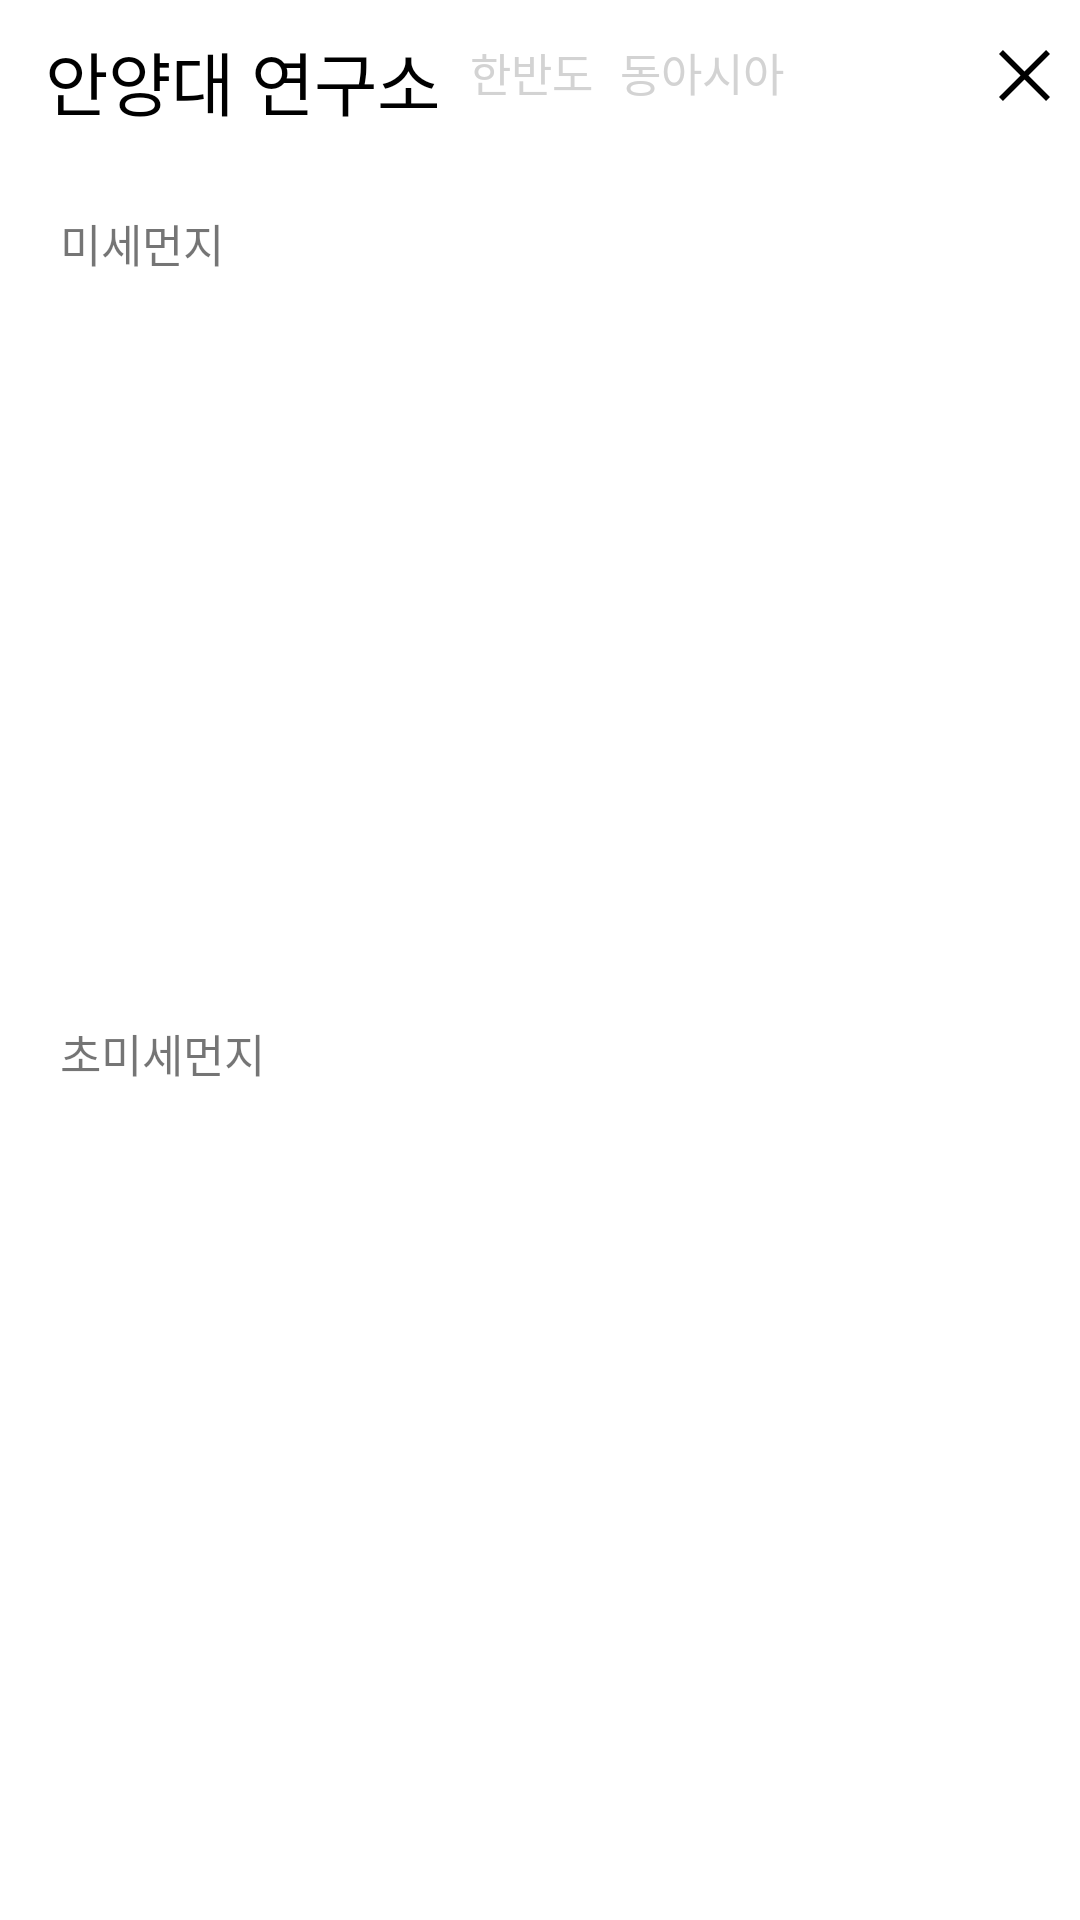

Icons on this 1080×1920 Android screen, each with its box as Rect(x1, y1, x2, y2):
cancel: Rect(999, 50, 1050, 101)
